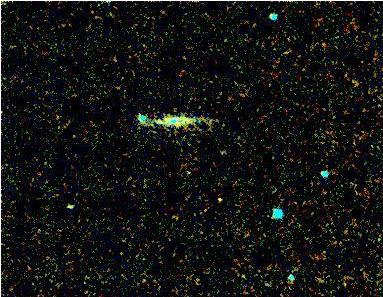star: (202, 184, 232, 214)
